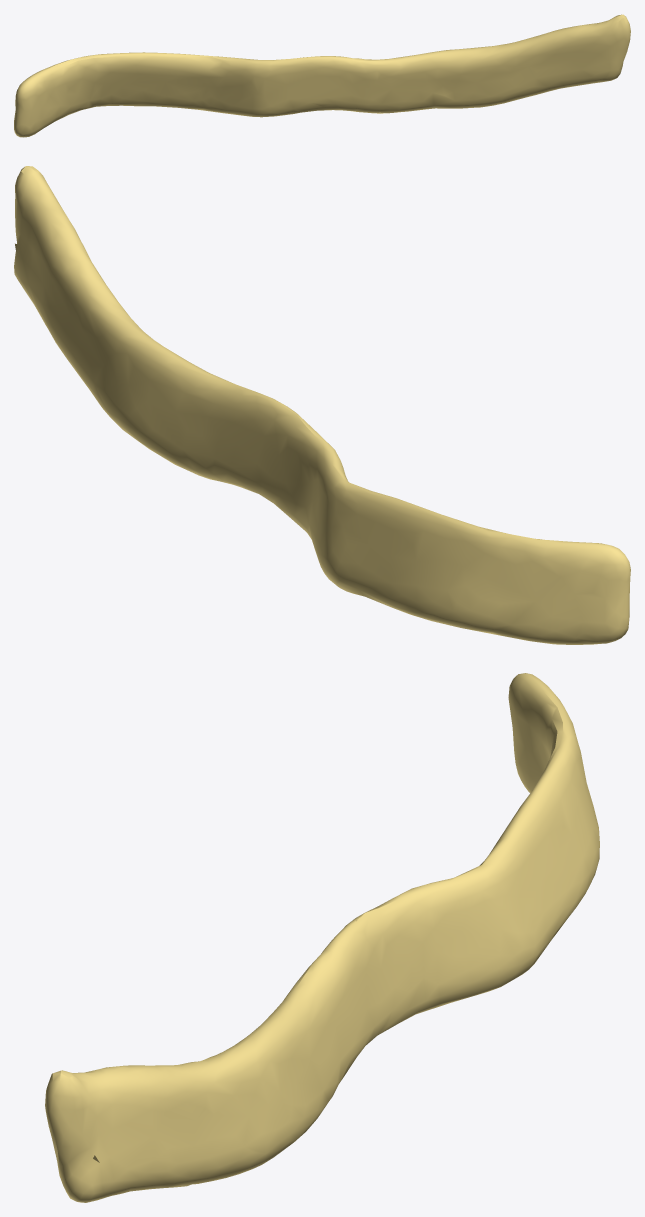
The model's file is fma73616_mm2685.glb.
3 views of the same model, one above another, from view 1: azimuth 30°, elevation 25°; view 2: azimuth 150°, elevation 25°; view 3: azimuth 270°, elevation 25° (orthographic). The views are drawn at different scales.
Visible parts, largest first — view 1: FMA73616_MM2685; view 2: FMA73616_MM2685; view 3: FMA73616_MM2685.
Boxes of the visible parts, box(x1,y1,x2,y2) form: FMA73616_MM2685: box(14, 14, 630, 137); FMA73616_MM2685: box(14, 166, 630, 644); FMA73616_MM2685: box(45, 673, 599, 1202).
Size of the model in its own units: 0.0186 by 0.0037 by 0.00899.
